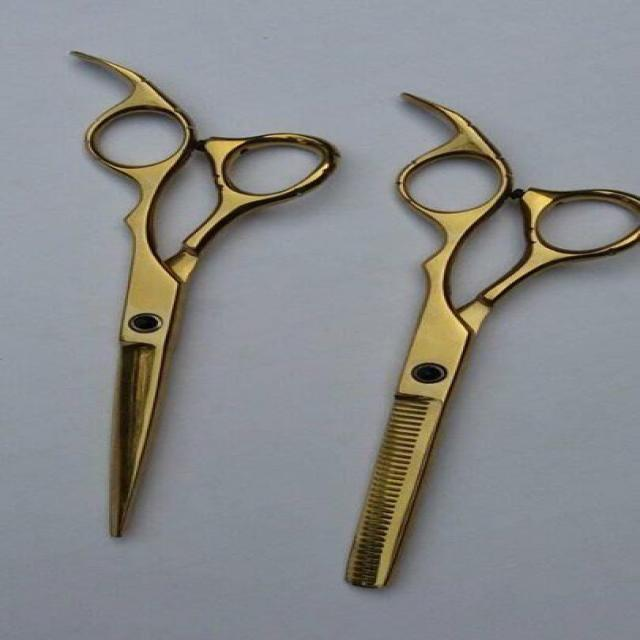Gunting: (15, 39, 355, 542)
